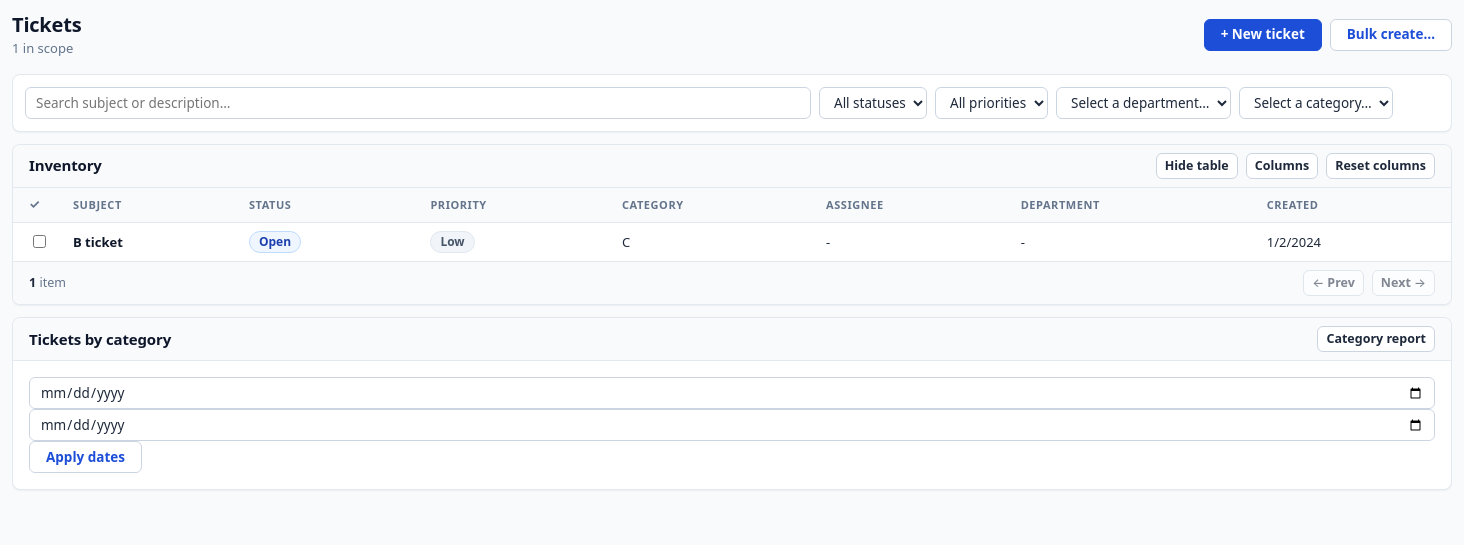
Test: Tickets list bulk gating › shows selection checkboxes and the bulk toolbar to staff
Check: the link "B ticket" is shown, box [73, 233, 123, 251]
Click the checkbox named "Select row 1": click(40, 242) [33, 235, 46, 248]
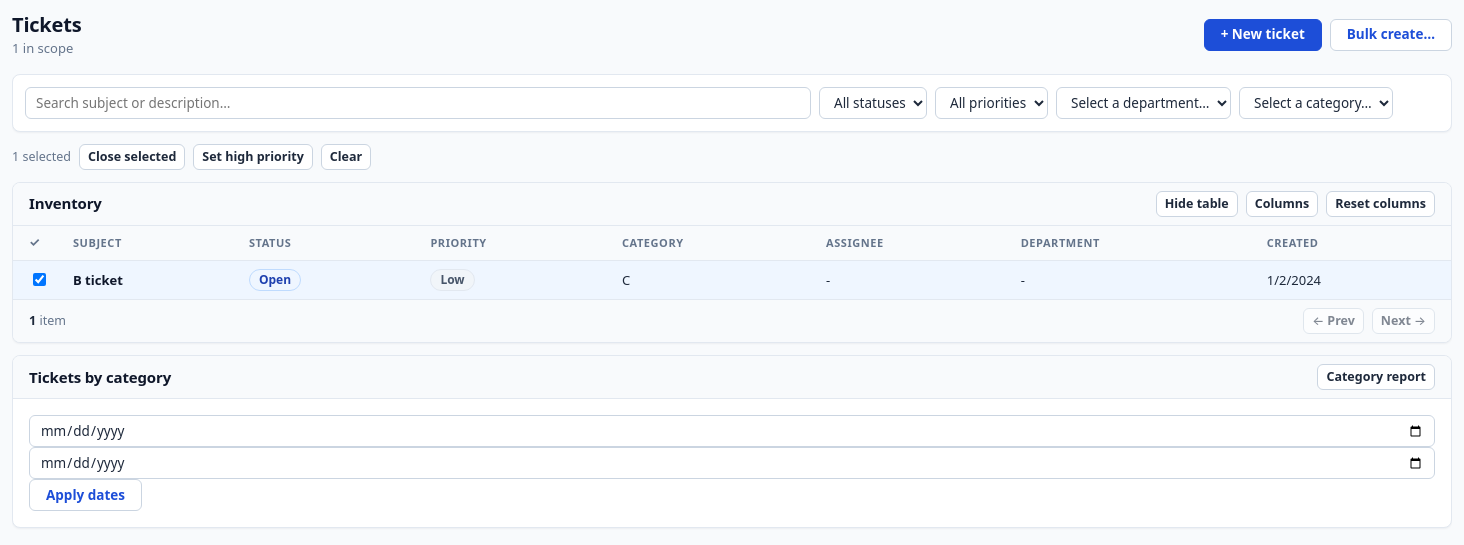
Check: the element named "Bulk actions" shows "1 selected", box [12, 144, 371, 170]
Check: the button "Close selected" is shown, box [79, 144, 185, 170]
